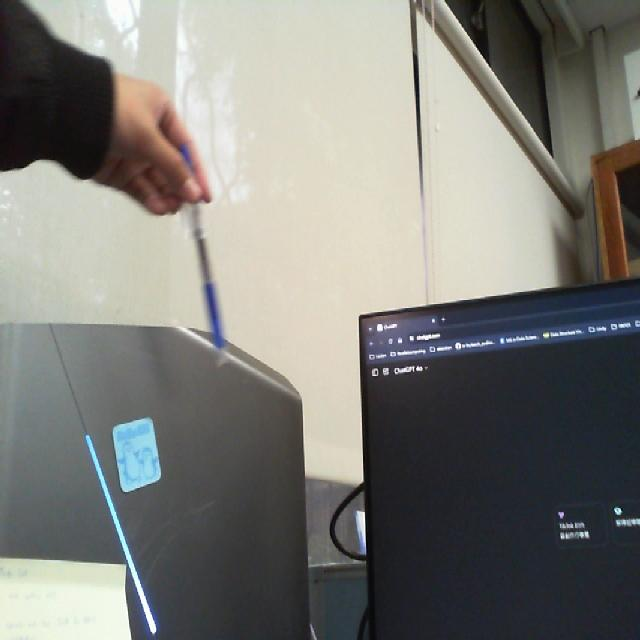Pen: (167, 134, 241, 379)
